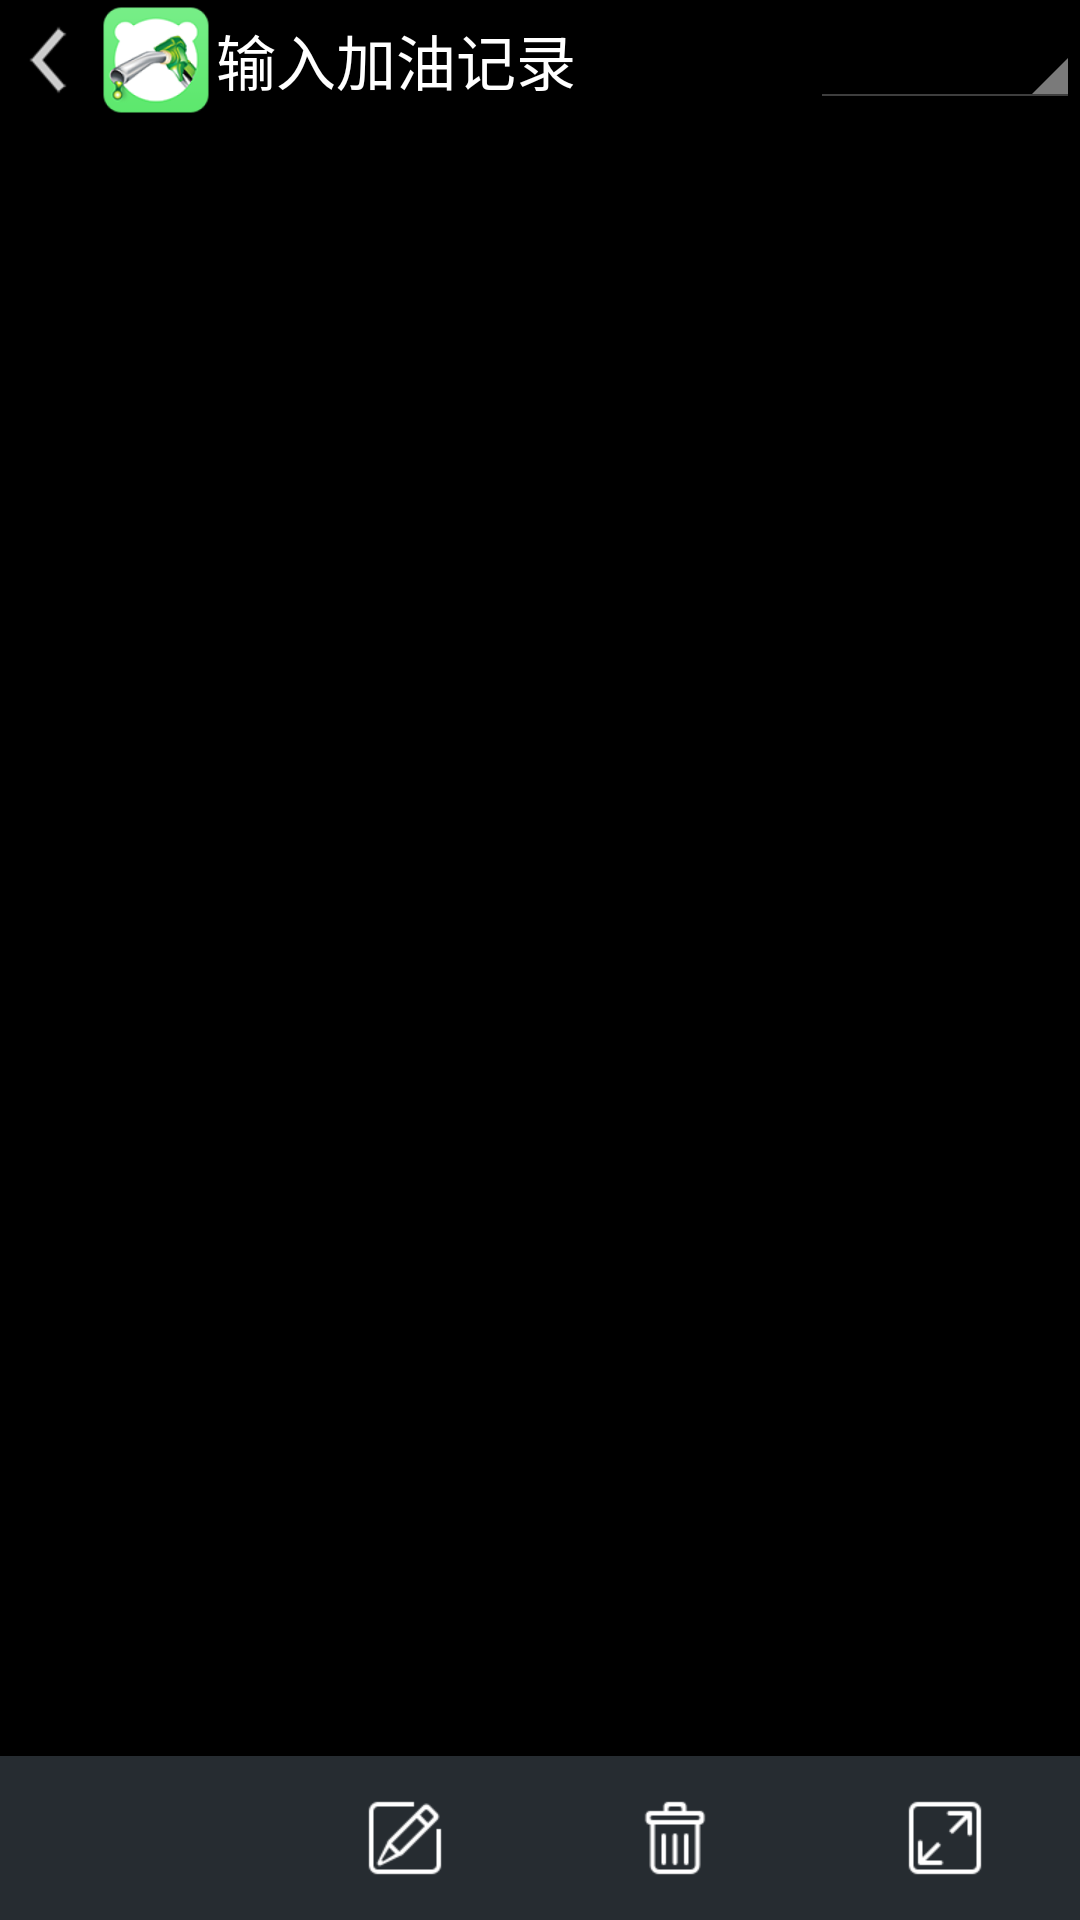

Where icons sit on this 1080×1920 app screen, as (x1, y1, x2, y2):
delete: (645, 1801, 705, 1875)
edit record: (368, 1801, 442, 1875)
expand: (908, 1801, 982, 1875)
